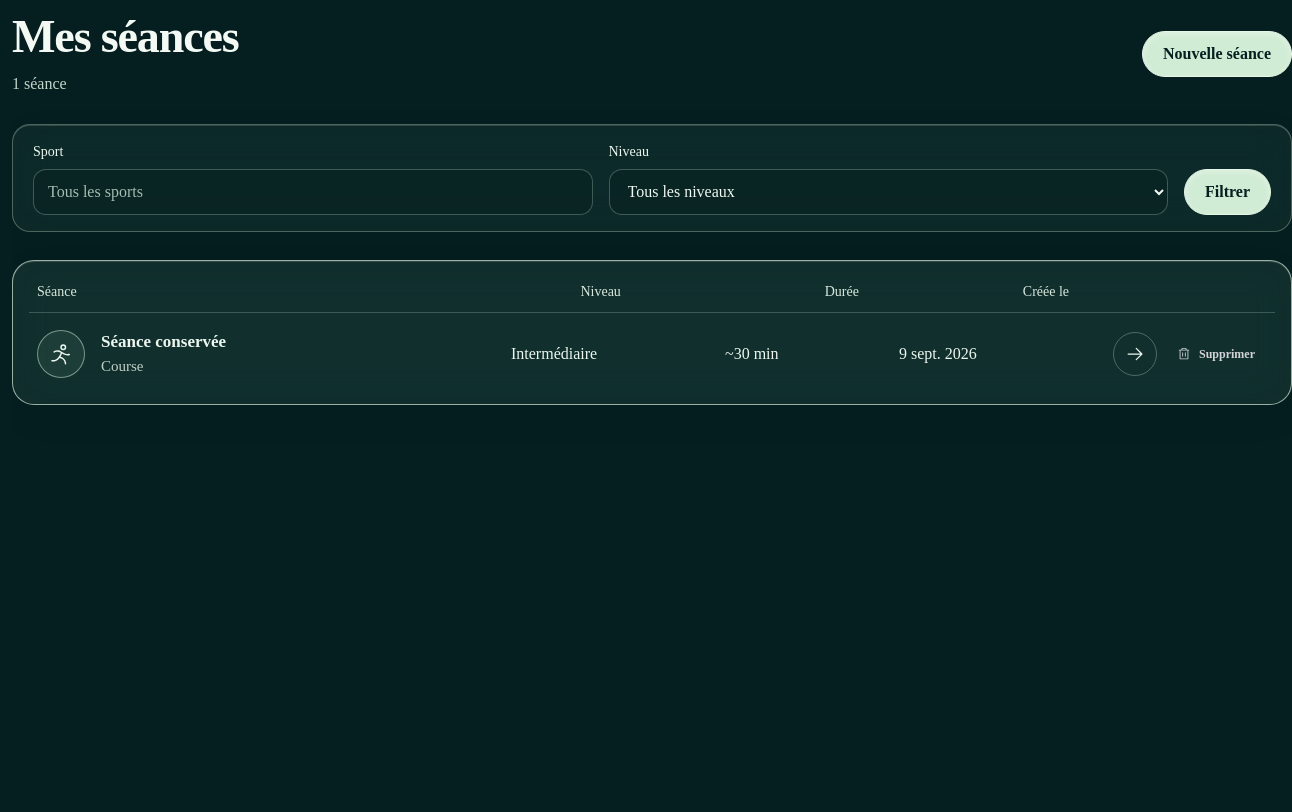
Scenario: parcours préservés par la refonte › garde une suppression échouée réessayable et permet de l’annuler
The width and height of the screenshot is (1292, 812).
Click the button with aria-label "Supprimer l'entraînement".
click(1216, 354)  # box x1=1165 y1=332 x2=1267 y2=376
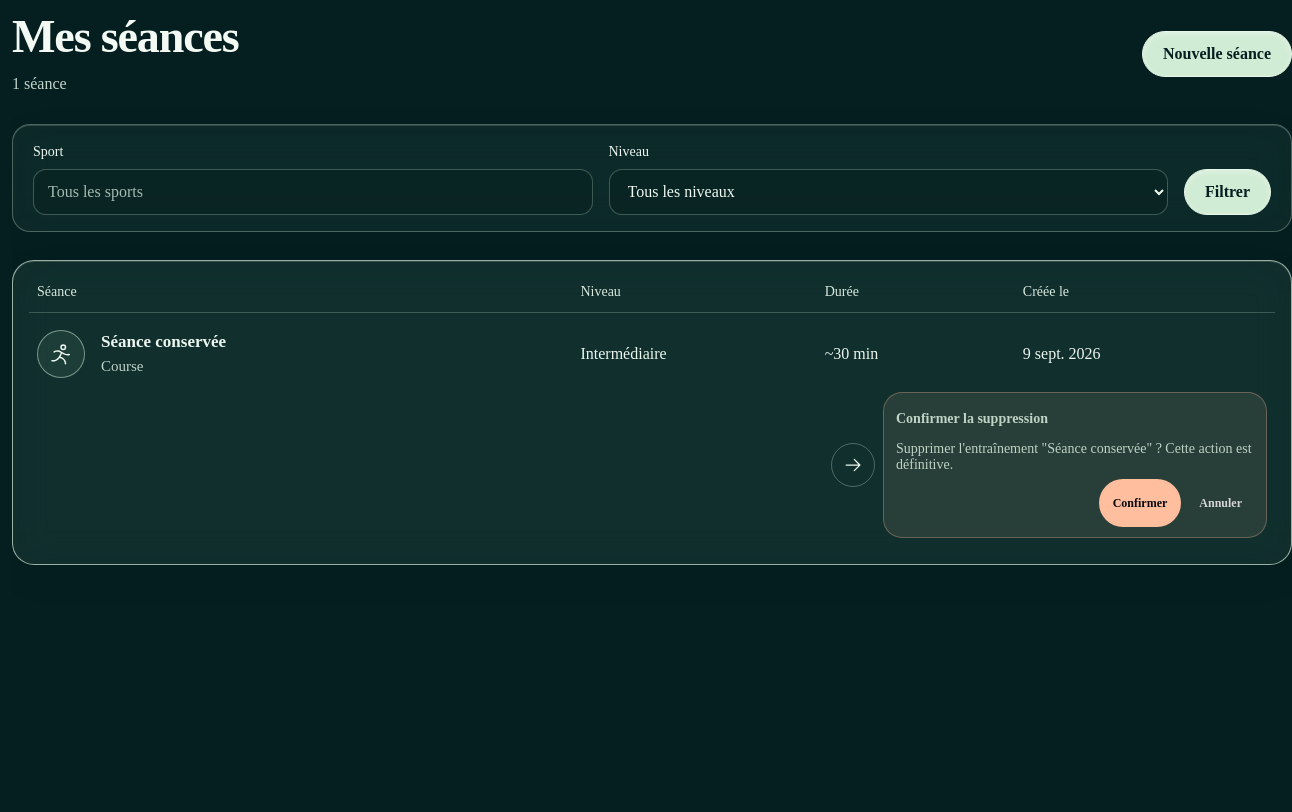
Click the button "Confirmer".
click(1140, 503)  # box x1=1101 y1=481 x2=1179 y2=525
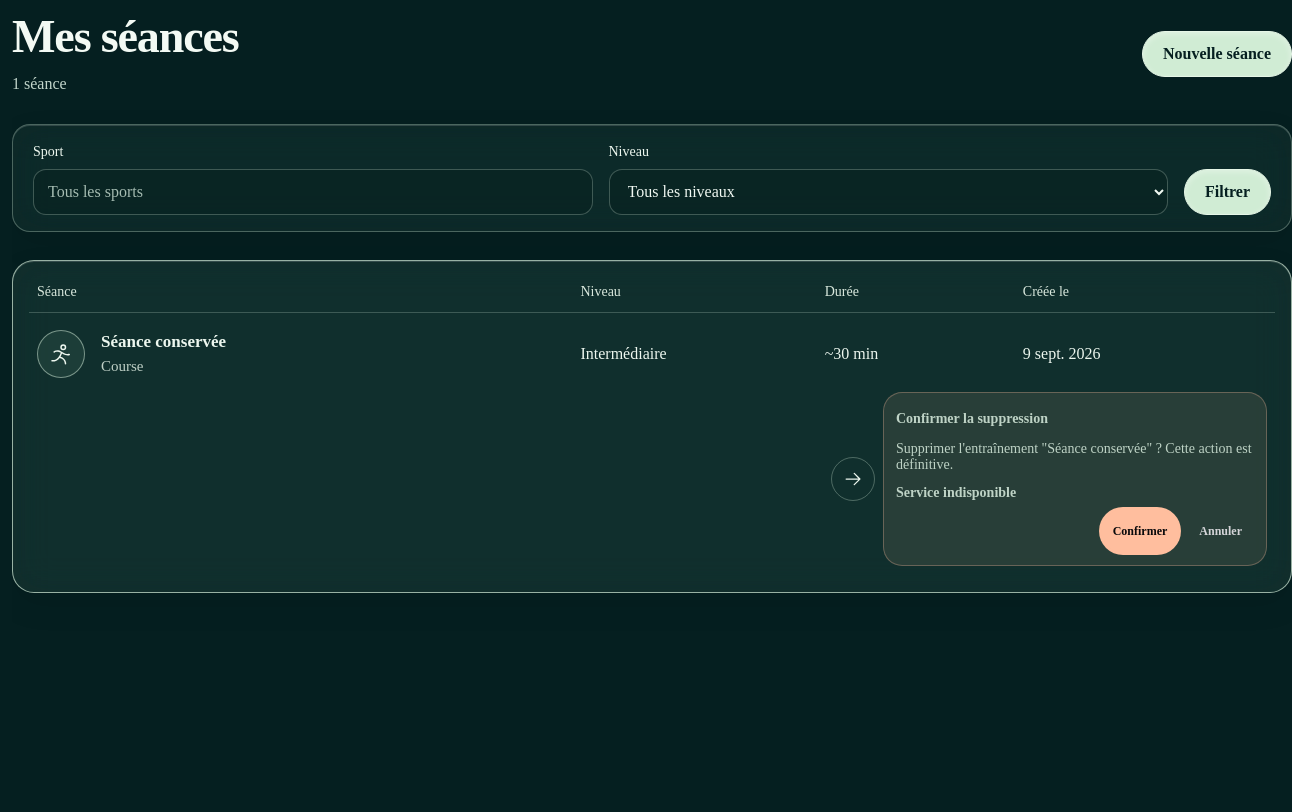
Check: the button "Annuler" is enabled
Check: the message reads "Service indisponible", box x1=896 y1=485 x2=1016 y2=500
Click the button "Annuler".
click(1221, 531)  # box x1=1187 y1=509 x2=1254 y2=553
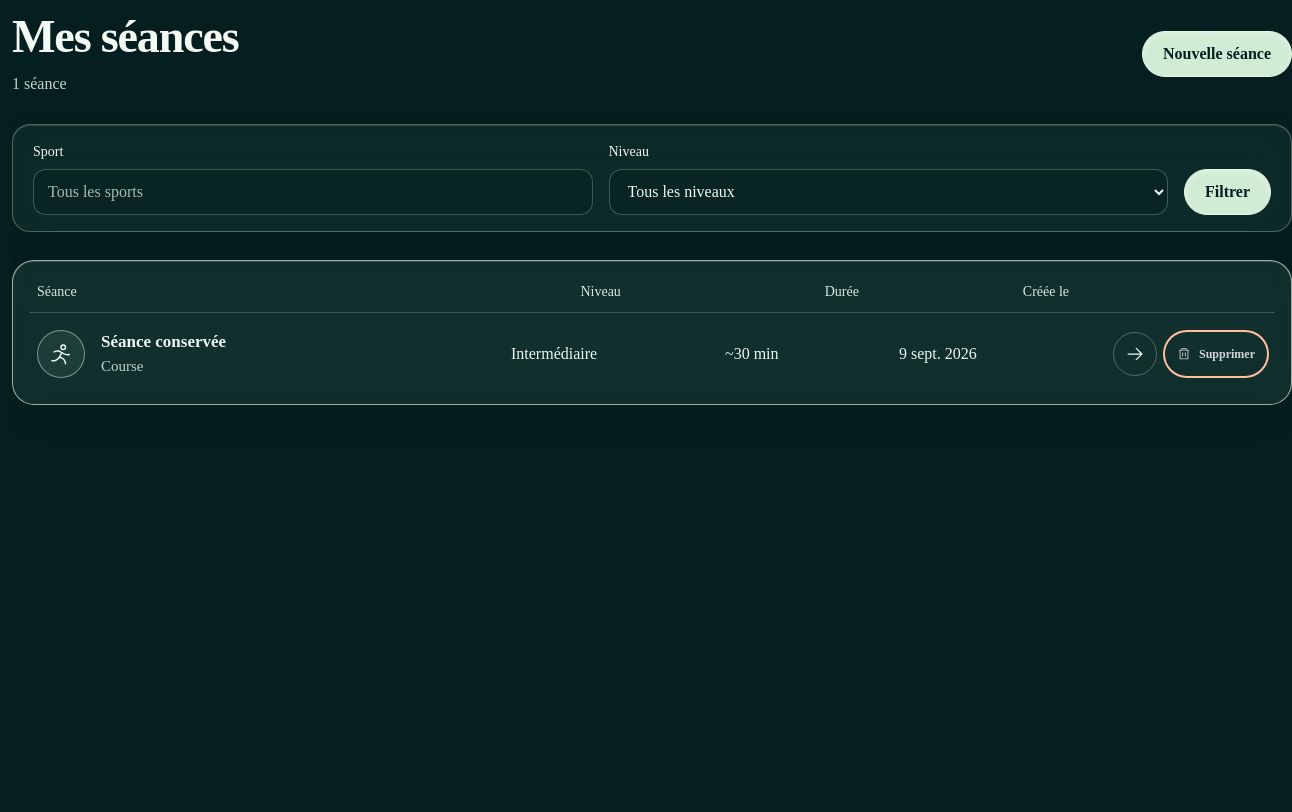
Check: the text "Confirmer la suppression" is gone
